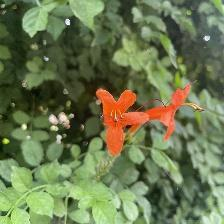honeysuckle: (95, 84, 151, 155)
